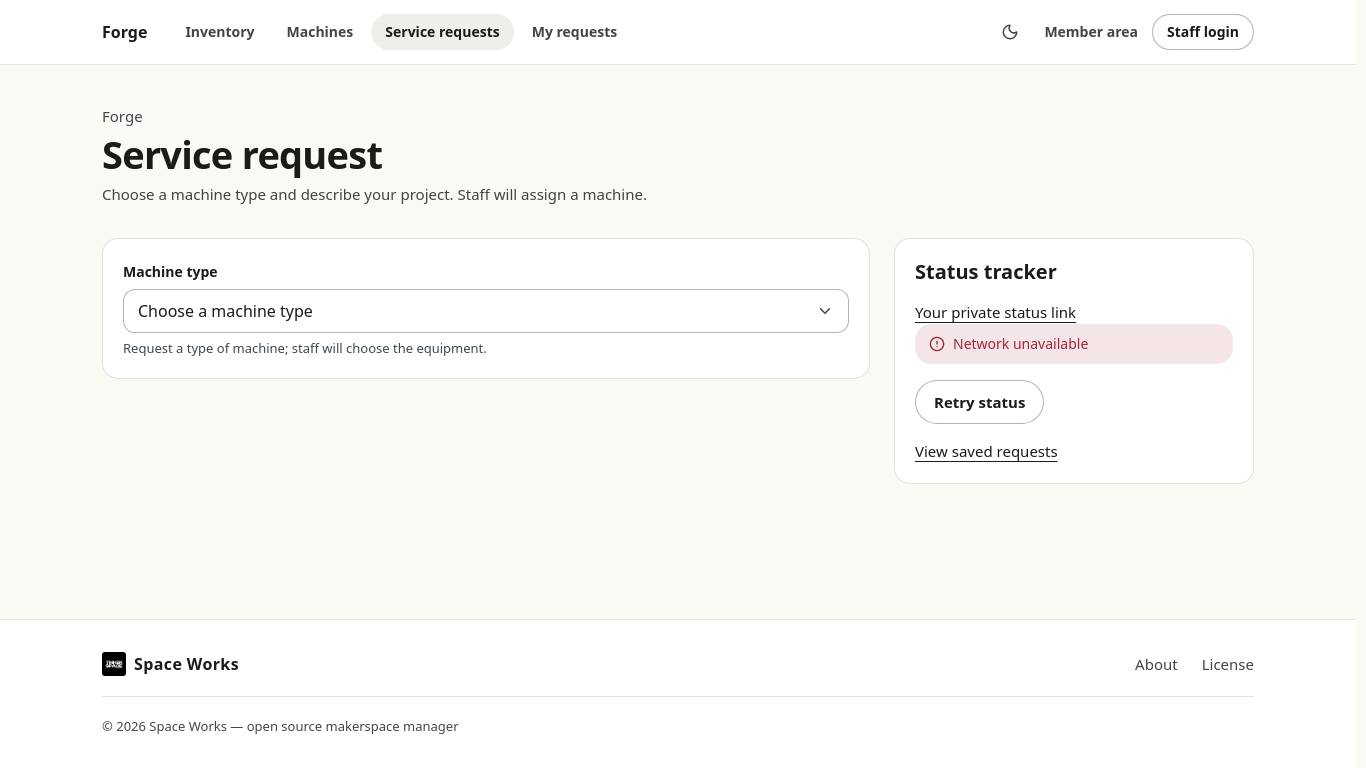
it: public machine service page › recovers status through Retry status after a temporary failure: {}
Expected: the text "Network unavailable" is shown, [953,334,1088,354]
Click the button named "Retry status".
click(980, 402)  # box [915,380,1044,424]
Wait 210105 ms
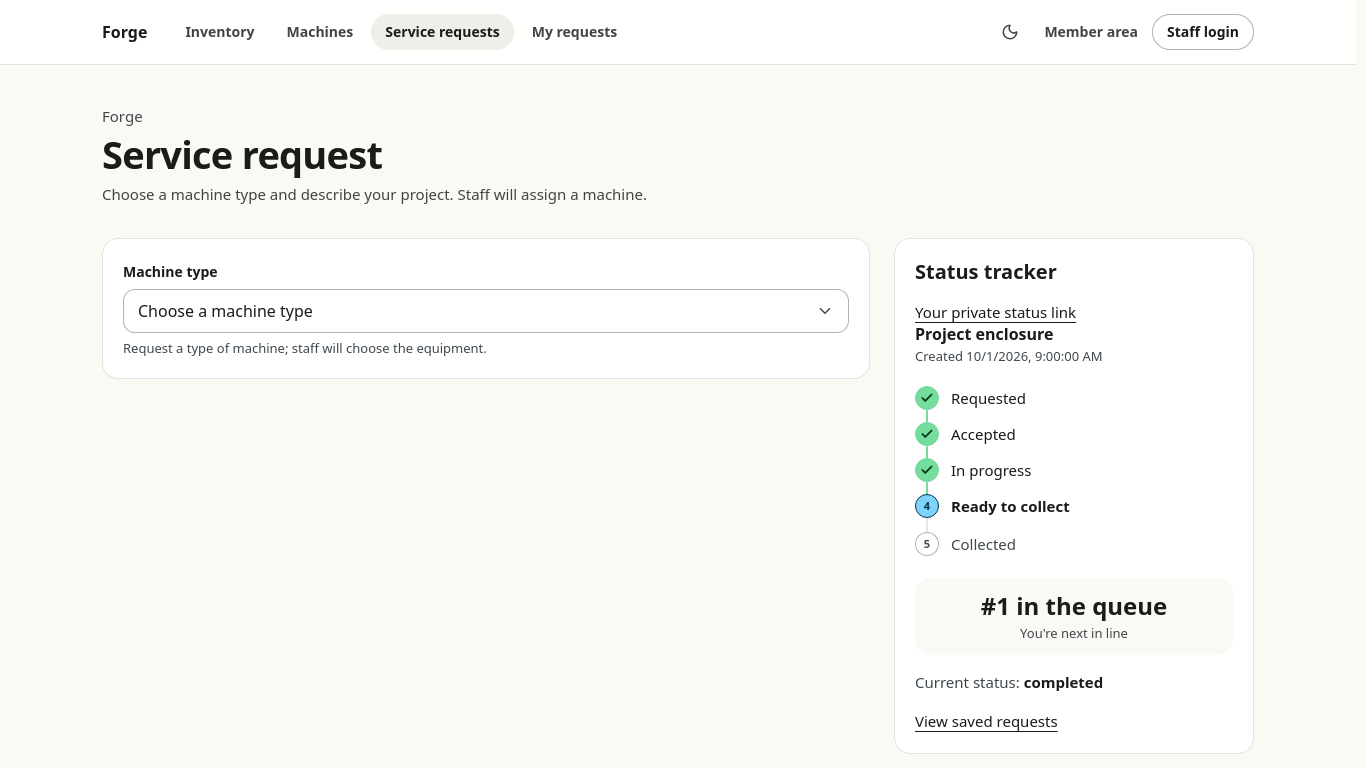
Expected: the text "Network unavailable" is gone
